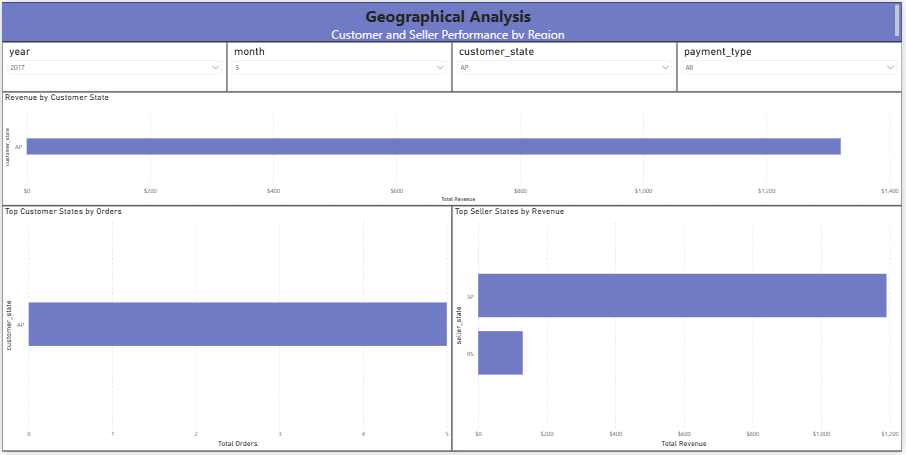

The dashboard page shown, as its layout file describes it:
{"tool":"powerbi","page":{"name":"Geographical Analysis","canvas":[1800,900],"ordinal":1},"visuals":[{"type":"textbox","box":[-8,0,1808,80],"z":0},{"type":"slicer","fields":{"Values":["dim_dates.year"]},"box":[0,80,450,100],"z":1000},{"type":"slicer","fields":{"Values":["dim_dates.month"]},"box":[450,80,450,100],"z":2000},{"type":"slicer","fields":{"Values":["dim_customers.customer_state"]},"box":[900,80,450,100],"z":3000},{"type":"slicer","fields":{"Values":["fact_orders.payment_type"]},"box":[1350,80,450,100],"z":4000},{"type":"clusteredBarChart","title":"Revenue by Customer State","fields":{"Category":["dim_customers.customer_state"],"Y":["dim_customers.Total Revenue"]},"box":[0,180,1800,227],"z":4001},{"type":"clusteredBarChart","title":"Top Customer States by Orders","fields":{"Category":["dim_customers.customer_state"],"Y":["dim_customers.Total Orders"]},"box":[0,407,900,490],"z":4002},{"type":"clusteredBarChart","title":"Top Seller States by Revenue","fields":{"Category":["dim_sellers.seller_state"],"Y":["dim_customers.Total Revenue"]},"box":[900,407,900,490],"z":4003}]}

Visuals, with their boxes in screenshot pixels (x1, y1, x2, y2), scaled from the page's 1800x900 canvas onto the 906x455 screenshot:
textbox: bbox(0, 0, 905, 40)
slicer - dim_dates.year: bbox(0, 40, 226, 91)
slicer - dim_dates.month: bbox(226, 40, 453, 91)
slicer - dim_customers.customer_state: bbox(453, 40, 680, 91)
slicer - fact_orders.payment_type: bbox(680, 40, 905, 91)
"Revenue by Customer State" clusteredBarChart: bbox(0, 91, 905, 206)
"Top Customer States by Orders" clusteredBarChart: bbox(0, 206, 453, 453)
"Top Seller States by Revenue" clusteredBarChart: bbox(453, 206, 905, 453)
